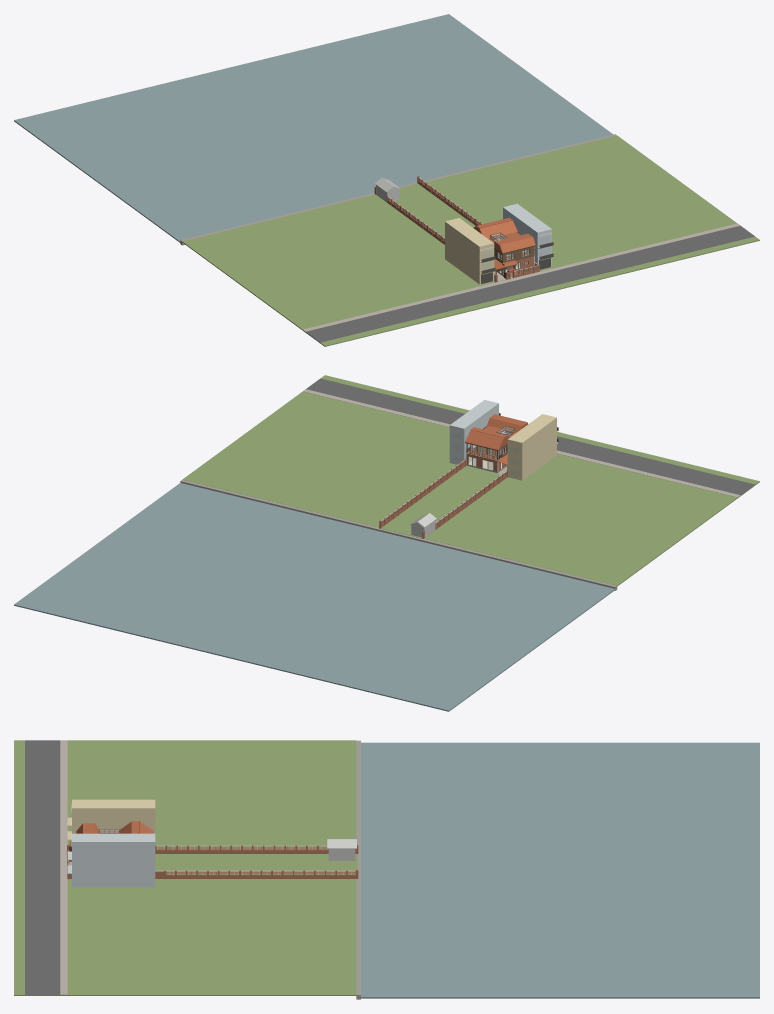
File: c2_architecture.fbx
3 views of the same model, one above another, from view 1: azimuth 30°, elevation 25°; view 2: azimuth 150°, elevation 25°; view 3: azimuth 270°, elevation 25° (orthographic). The views are drawn at different scales.
Parts seen in each view (by area): view 1: SITE__river, SITE__grass, SITE__asphalt, NEIGHBOURS__neigh_a, SITE__paver, ROOF__tile_roof, NEIGHBOURS__neigh_b, SITE__stone_dk, FENCE__brick; view 2: SITE__river, SITE__grass, SITE__asphalt, NEIGHBOURS__neigh_a, SITE__stone_dk, NEIGHBOURS__neigh_b, ROOF__tile_roof, SITE__paver, FENCE__brick; view 3: SITE__river, SITE__grass, SITE__asphalt, NEIGHBOURS__neigh_b, NEIGHBOURS__neigh_a, FENCE__brick, SITE__paver, SITE__stone_dk, FENCE__breeze, FENCE__stone, SITE__existing, ROOF__tile_roof.
Boxes of the visible parts, bbox=[...] form: SITE__river: bbox=[14, 14, 613, 242]; SITE__grass: bbox=[182, 135, 759, 346]; SITE__asphalt: bbox=[306, 225, 754, 342]; NEIGHBOURS__neigh_a: bbox=[445, 218, 495, 284]; SITE__paver: bbox=[302, 223, 740, 331]; ROOF__tile_roof: bbox=[473, 217, 535, 270]; NEIGHBOURS__neigh_b: bbox=[503, 203, 553, 267]; SITE__stone_dk: bbox=[180, 134, 616, 245]; FENCE__brick: bbox=[374, 176, 539, 282]; SITE__river: bbox=[14, 483, 615, 711]; SITE__grass: bbox=[182, 375, 759, 586]; SITE__asphalt: bbox=[306, 378, 754, 495]; NEIGHBOURS__neigh_a: bbox=[507, 414, 558, 480]; SITE__stone_dk: bbox=[180, 479, 617, 590]; NEIGHBOURS__neigh_b: bbox=[449, 400, 498, 464]; ROOF__tile_roof: bbox=[465, 414, 528, 465]; SITE__paver: bbox=[303, 389, 740, 497]; FENCE__brick: bbox=[379, 459, 507, 538]; SITE__river: bbox=[361, 742, 759, 998]; SITE__grass: bbox=[14, 740, 357, 995]; SITE__asphalt: bbox=[25, 740, 60, 994]; NEIGHBOURS__neigh_b: bbox=[67, 833, 155, 887]; NEIGHBOURS__neigh_a: bbox=[67, 799, 155, 839]; FENCE__brick: bbox=[67, 844, 358, 879]; SITE__paver: bbox=[60, 740, 71, 994]; SITE__stone_dk: bbox=[356, 740, 360, 999]; FENCE__breeze: bbox=[156, 846, 355, 875]; FENCE__stone: bbox=[67, 845, 355, 871]; SITE__existing: bbox=[327, 839, 356, 860]; ROOF__tile_roof: bbox=[69, 821, 153, 851].
Bounding box in the file's own units: 135 × 12.4 × 167.
